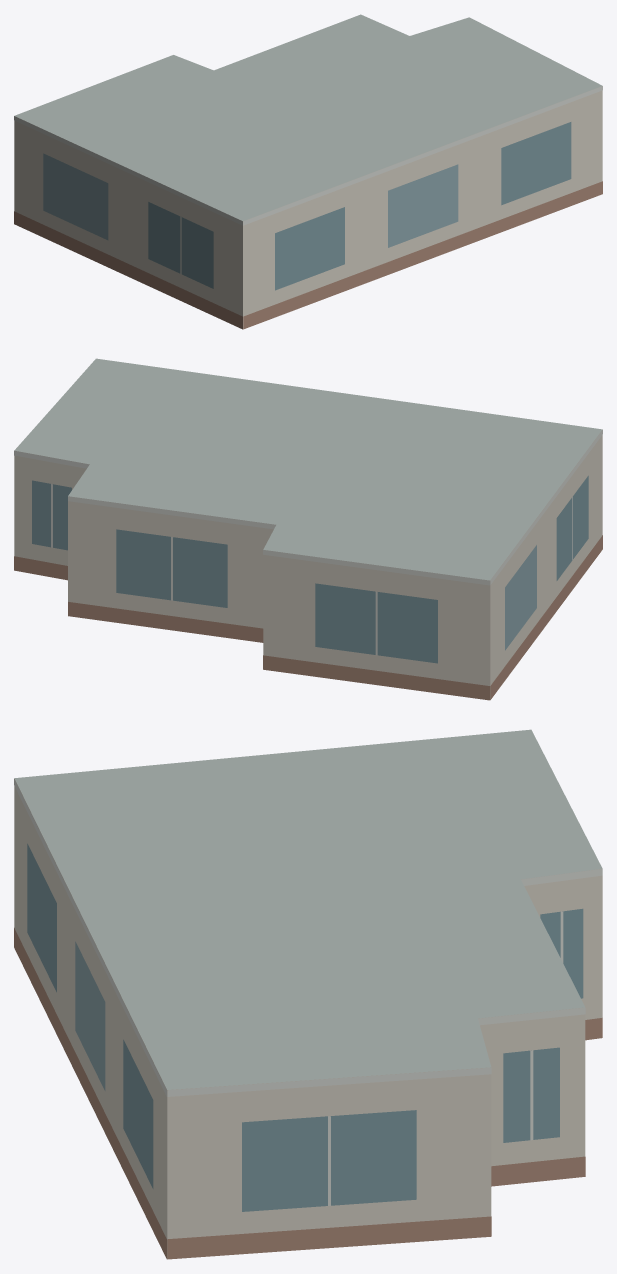
Rendered from survey-upis-33025554.glb.
The picture shows the model from 3 angles, top to bottom: view 1: azimuth 30°, elevation 25°; view 2: azimuth 150°, elevation 25°; view 3: azimuth 270°, elevation 25°; orthographic projection. The views are drawn at different scales.
Visible parts, largest first — view 1: survey-upis-33025554.tmp; view 2: survey-upis-33025554.tmp; view 3: survey-upis-33025554.tmp.
Boxes of the visible parts, bbox=[...] form: survey-upis-33025554.tmp: bbox=[14, 14, 602, 329]; survey-upis-33025554.tmp: bbox=[14, 358, 602, 700]; survey-upis-33025554.tmp: bbox=[14, 729, 602, 1259].
Size of the model in its own units: 13.94 by 3.05 by 9.62.
